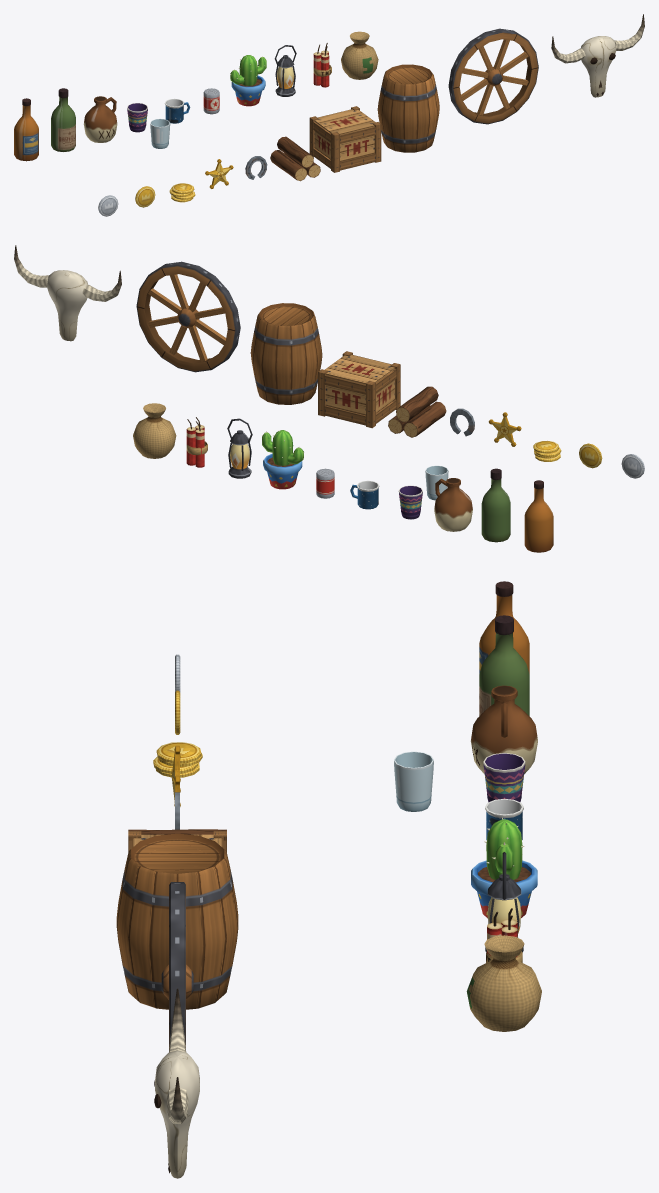
Rendered from rekvizity.glb.
3 views of the same model, one above another, from view 1: azimuth 30°, elevation 25°; view 2: azimuth 150°, elevation 25°; view 3: azimuth 270°, elevation 25° (orthographic). The views are drawn at different scales.
Visible parts, largest first — view 1: prop_barrel, prop_wheel, prop_crate, prop_skull, prop_cactus_pot, prop_logs, prop_sack, prop_bottle_green, prop_jug, prop_bottle_amber, prop_lantern, prop_dynamite (+8 smaller); view 2: prop_barrel, prop_wheel, prop_crate, prop_skull, prop_cactus_pot, prop_logs, prop_sack, prop_bottle_green, prop_jug, prop_bottle_amber, prop_lantern, prop_dynamite (+8 smaller); view 3: prop_barrel, prop_sack, prop_skull, prop_jug, prop_cactus_pot, prop_bottle_green, prop_wheel, prop_glass_clear, prop_glass_striped, prop_bottle_amber, prop_lantern, prop_coin_stack (+1 smaller).
Part boxes in pixels (x1,y1,x2,y2): prop_barrel: [377, 64, 439, 152]; prop_wheel: [448, 28, 538, 124]; prop_crate: [309, 106, 381, 172]; prop_skull: [551, 14, 644, 97]; prop_cactus_pot: [230, 55, 266, 106]; prop_logs: [270, 136, 320, 181]; prop_sack: [341, 31, 378, 79]; prop_bottle_green: [51, 88, 75, 151]; prop_jug: [83, 96, 117, 142]; prop_bottle_amber: [14, 98, 38, 161]; prop_lantern: [274, 45, 296, 96]; prop_dynamite: [313, 43, 331, 87]; prop_barrel: [250, 303, 322, 404]; prop_wheel: [136, 261, 240, 372]; prop_crate: [318, 351, 400, 428]; prop_skull: [14, 245, 121, 341]; prop_cactus_pot: [262, 430, 303, 489]; prop_logs: [388, 386, 446, 437]; prop_sack: [133, 403, 176, 458]; prop_bottle_green: [481, 468, 510, 542]; prop_jug: [434, 478, 472, 531]; prop_bottle_amber: [524, 480, 553, 552]; prop_lantern: [227, 418, 252, 478]; prop_dynamite: [186, 417, 207, 467]; prop_barrel: [116, 833, 238, 1009]; prop_sack: [466, 935, 541, 1031]; prop_skull: [154, 988, 199, 1178]; prop_jug: [470, 685, 537, 773]; prop_cactus_pot: [471, 817, 537, 917]; prop_bottle_green: [479, 615, 529, 715]; prop_wheel: [161, 882, 193, 1049]; prop_glass_clear: [394, 751, 433, 811]; prop_glass_striped: [483, 753, 525, 802]; prop_bottle_amber: [479, 581, 529, 674]; prop_lantern: [485, 852, 523, 952]; prop_coin_stack: [153, 742, 202, 777].
Size of the model in its own units: 2.51 by 0.3975 by 0.8459.
Materials: 1 (1 with a texture image).
